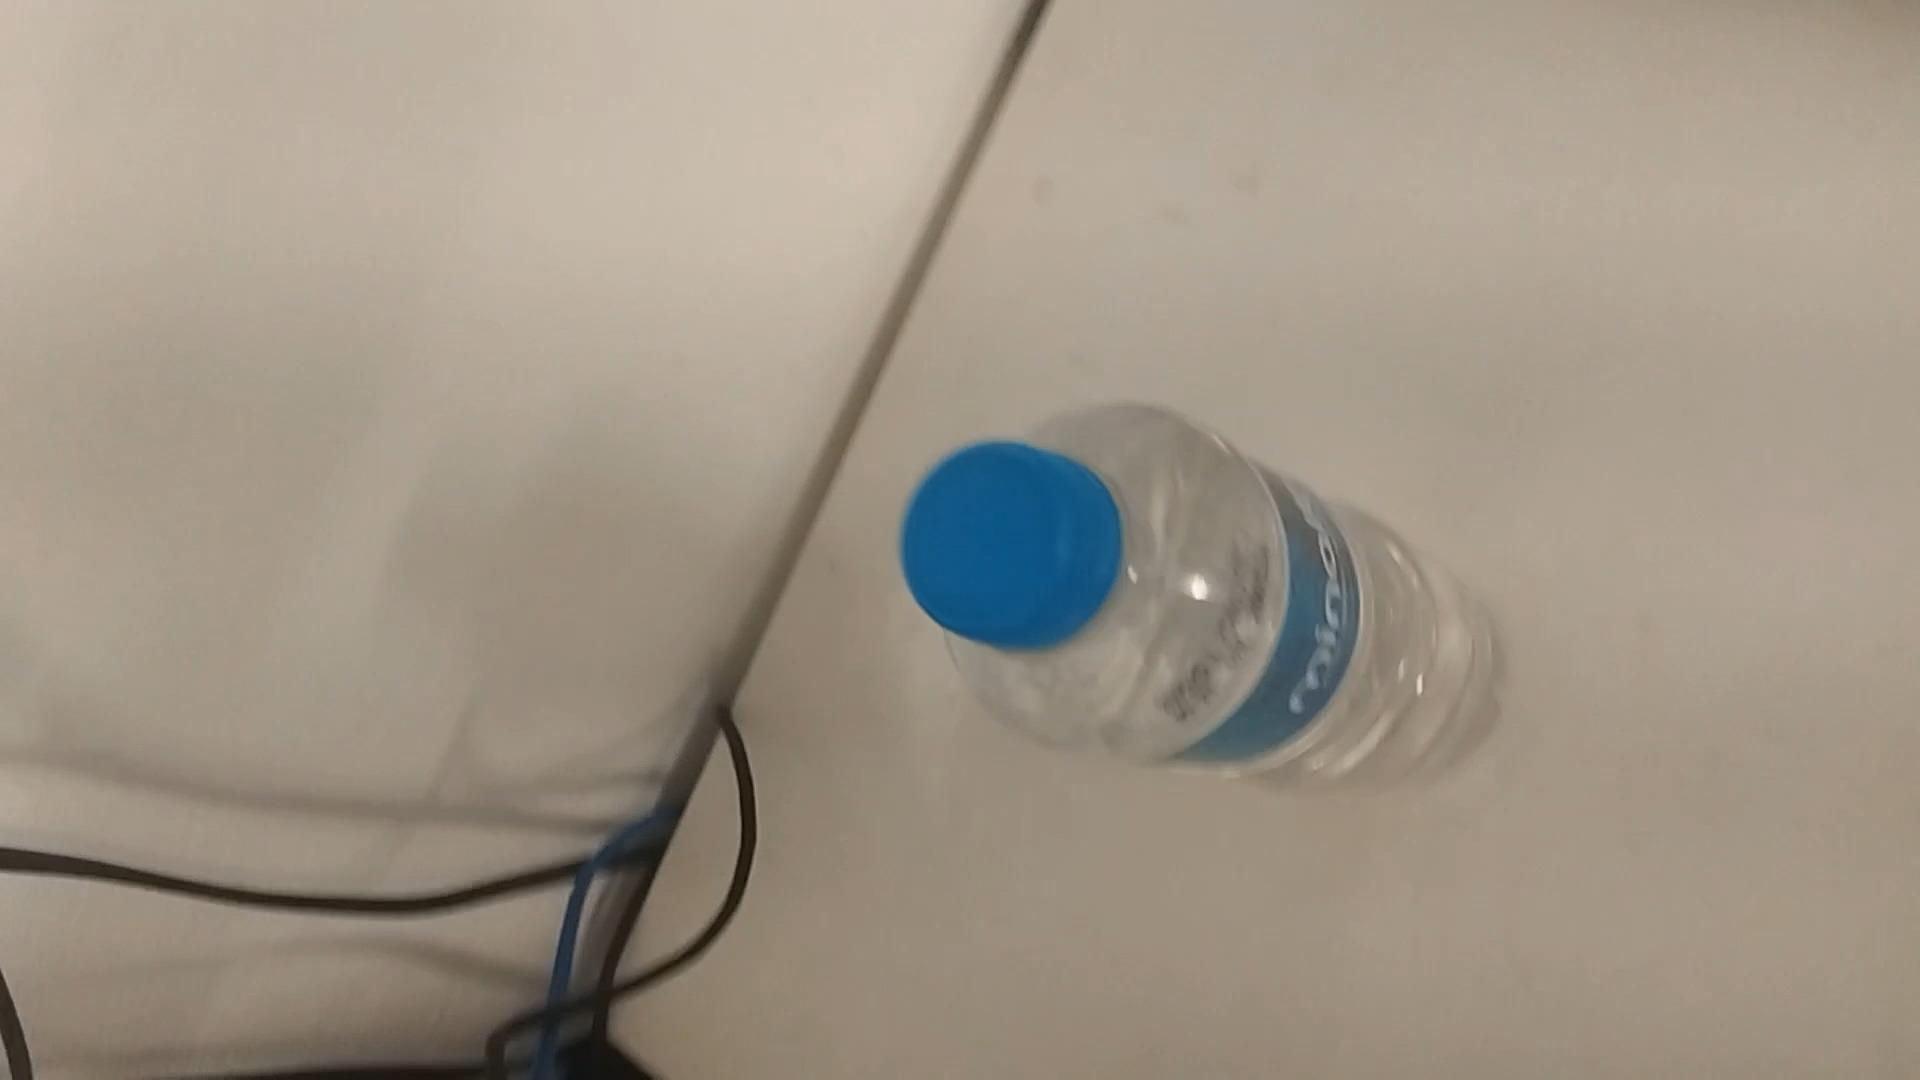agua: (903, 406, 1480, 790)
